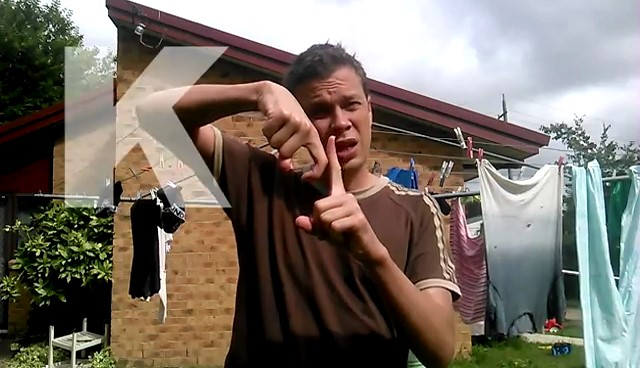K: (257, 76, 384, 271)
